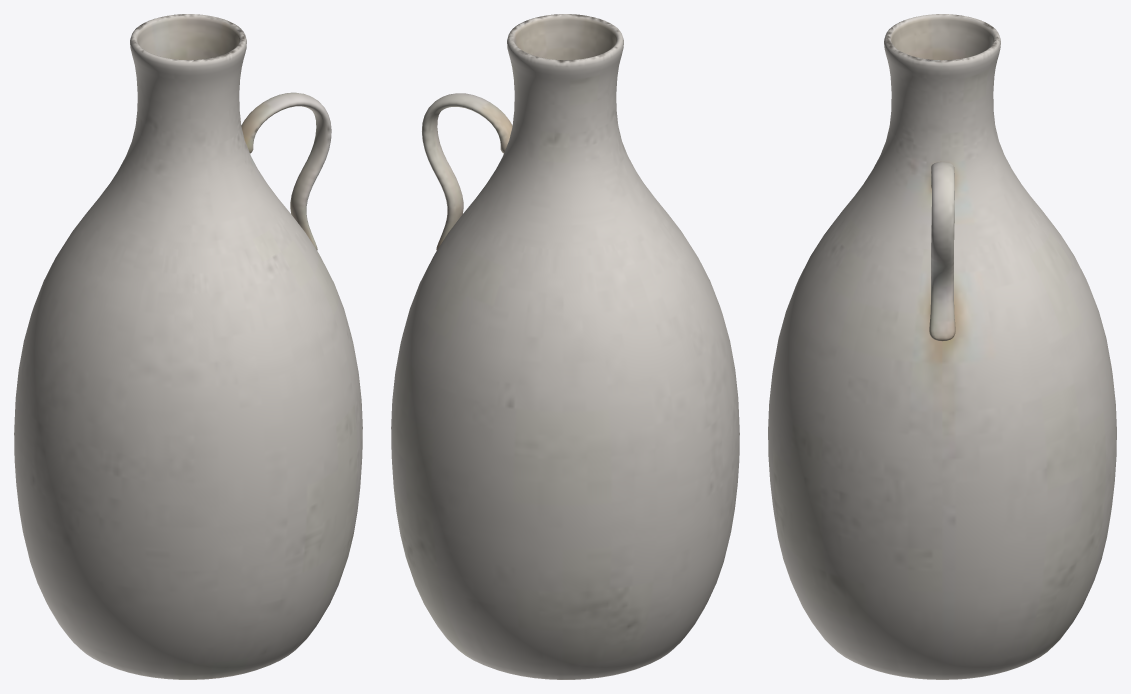
3 views of the same model, side by side, from view 1: azimuth 30°, elevation 25°; view 2: azimuth 150°, elevation 25°; view 3: azimuth 270°, elevation 25° (orthographic).
Visible parts, largest first — view 1: ceramic_vase_04; view 2: ceramic_vase_04; view 3: ceramic_vase_04.
Part boxes in pixels (x1,y1,x2,y2): ceramic_vase_04: [14, 14, 362, 679]; ceramic_vase_04: [391, 14, 739, 679]; ceramic_vase_04: [768, 14, 1116, 679].
Bounding box in the file's own units: 0.1811 × 0.3419 × 0.1811.
1 material, 1 textured.
